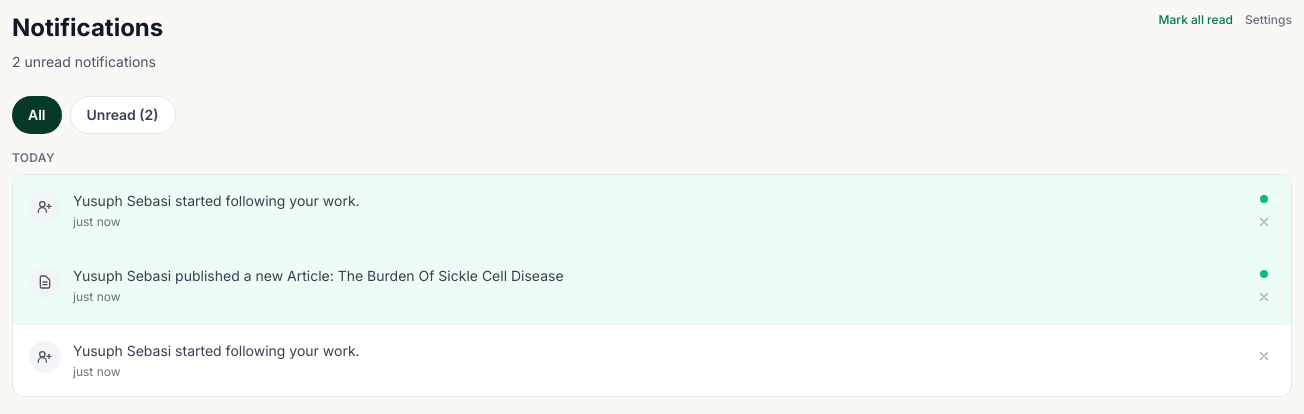
Test: the filter row › counts unread on the Unread chip and follows it as rows are read
The width and height of the screenshot is (1304, 414).
Check: the button "Unread (2)" is shown, box x1=70 y1=96 x2=176 y2=134
What coordinates should you click on to do the following:
click the link "published a new Article"
I would click on:
 (296, 285)
Its box is x1=29 y1=266 x2=564 y2=304.
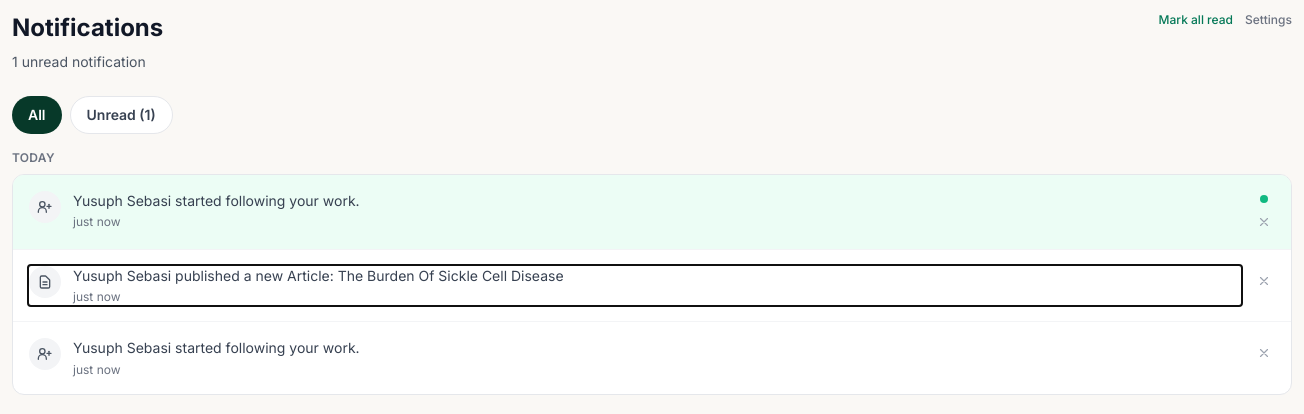
Check: the button "Unread (1)" is shown, box x1=70 y1=96 x2=173 y2=134
